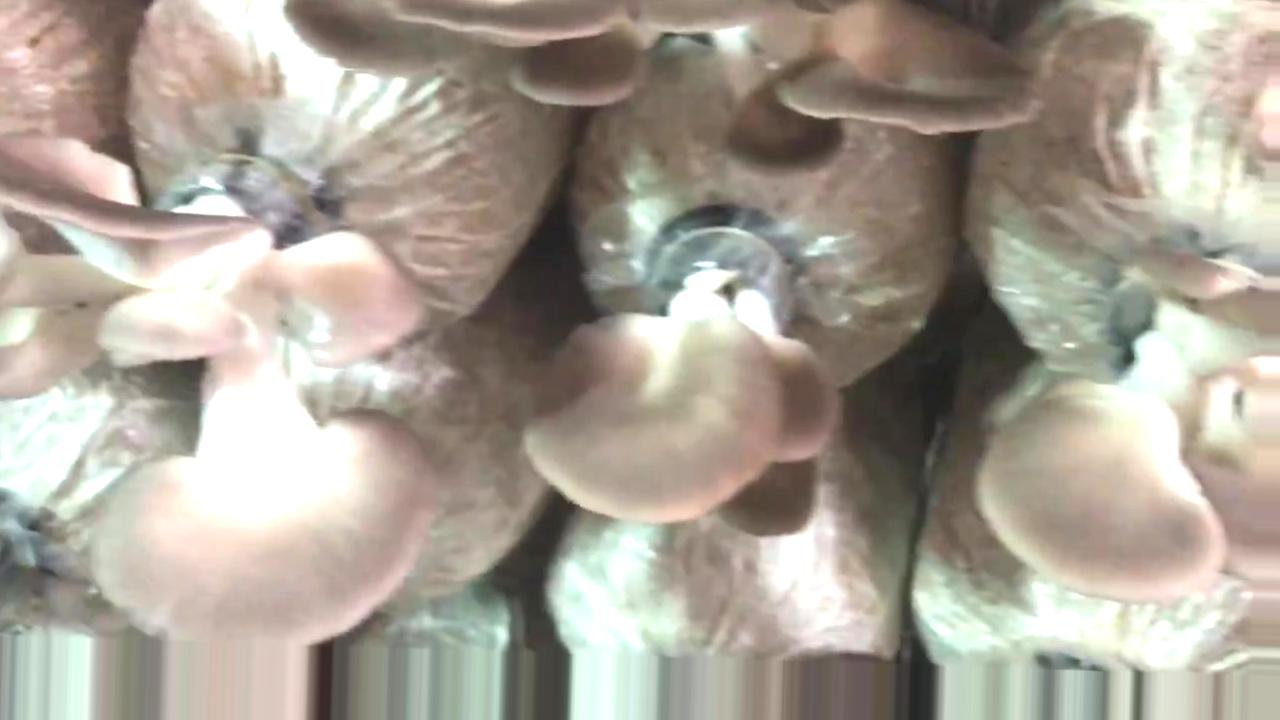nam: (1, 137, 443, 644), (286, 2, 1043, 187), (513, 210, 859, 541), (973, 243, 1280, 601)
